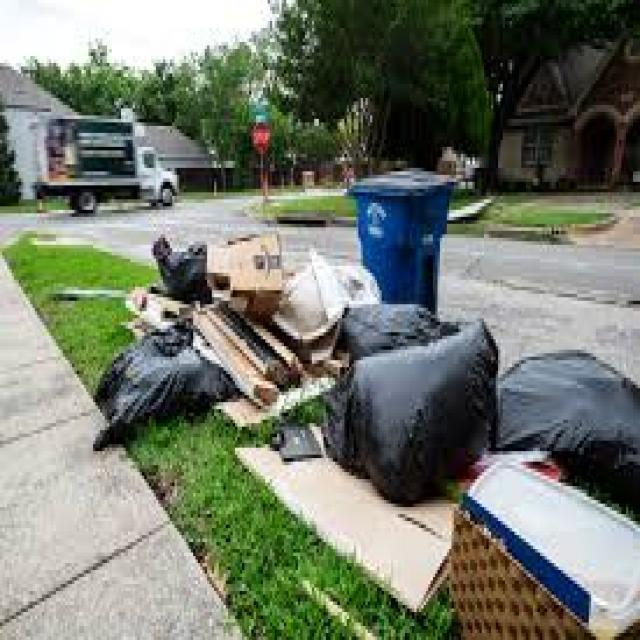garbage: (251, 342, 638, 636), (118, 245, 484, 482)
